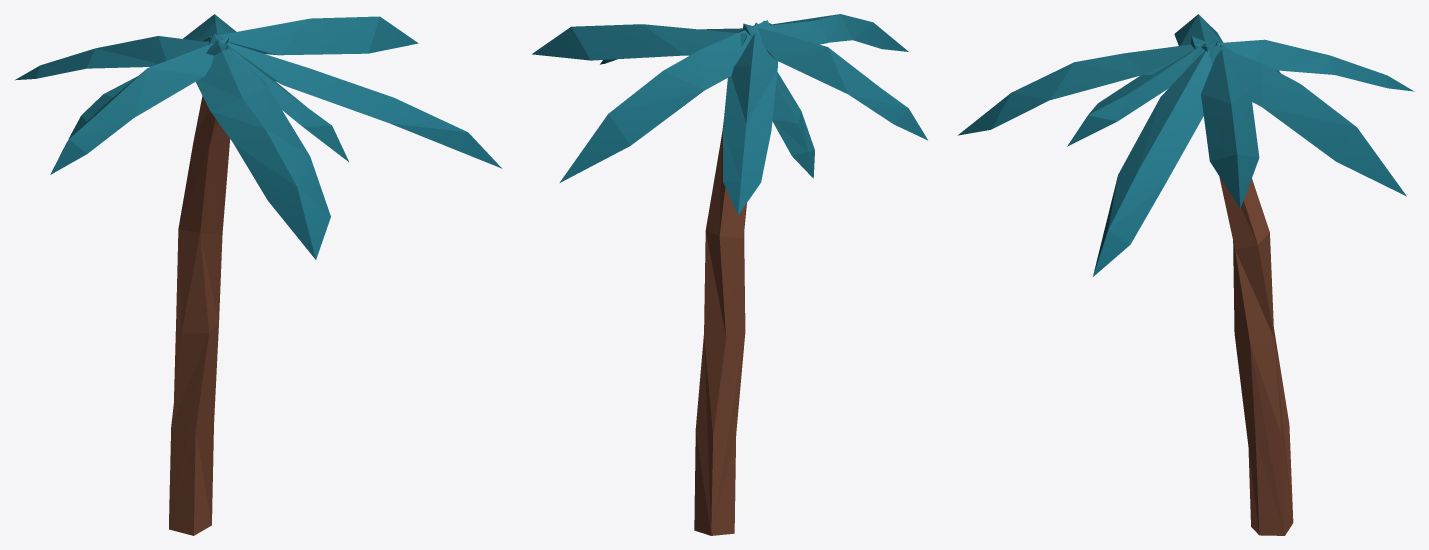
The model's file is Tree_13_gradient_blue_vc.fbx.
3 views of the same model, side by side, from view 1: azimuth 30°, elevation 25°; view 2: azimuth 150°, elevation 25°; view 3: azimuth 270°, elevation 25° (orthographic). The views are drawn at different scales.
Parts seen in each view (by area): view 1: Tree_13_gradient_blue_vc; view 2: Tree_13_gradient_blue_vc; view 3: Tree_13_gradient_blue_vc.
Boxes of the visible parts, x1,y1,x2,y2 form: Tree_13_gradient_blue_vc: (15, 14, 502, 535); Tree_13_gradient_blue_vc: (532, 14, 927, 535); Tree_13_gradient_blue_vc: (958, 14, 1414, 535).
Size of the model in its own units: 189 by 233 by 198.
